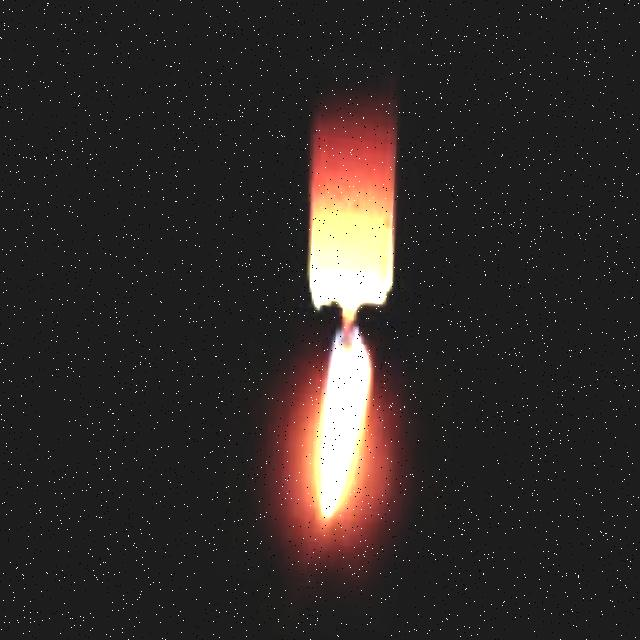Fire: (299, 325, 377, 522)
